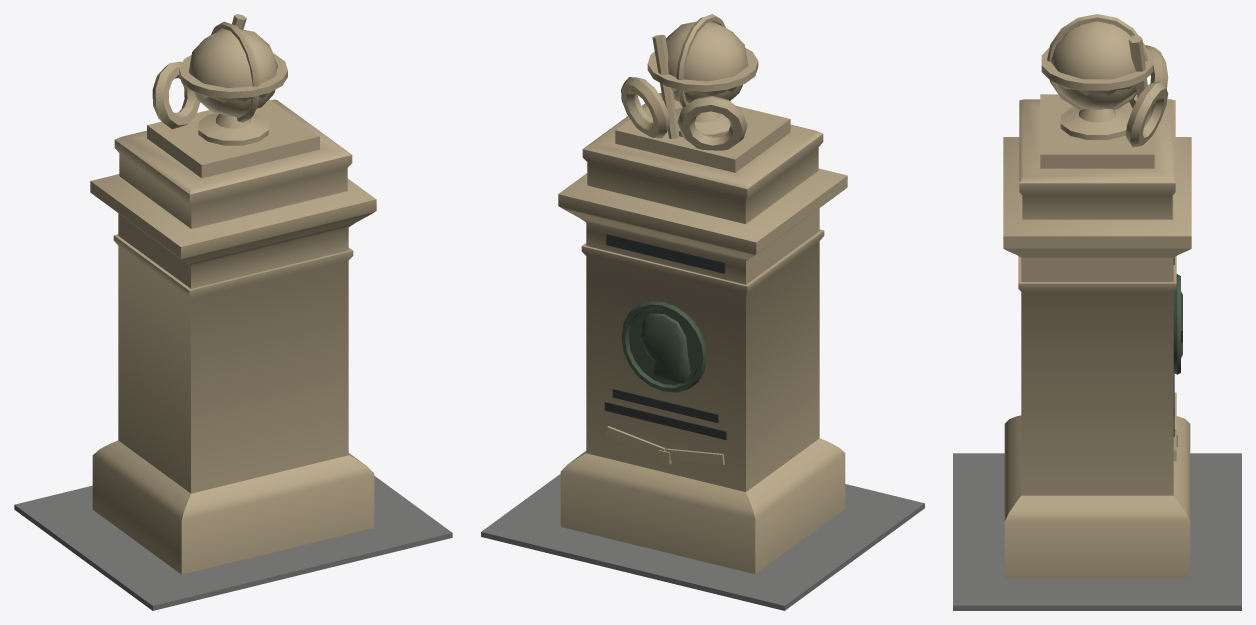
Rendered from mon_palitzsch.glb.
3 views of the same model, side by side, from view 1: azimuth 30°, elevation 25°; view 2: azimuth 150°, elevation 25°; view 3: azimuth 270°, elevation 25° (orthographic). The views are drawn at different scales.
Parts seen in each view (by area): view 1: mon_palitzsch; view 2: mon_palitzsch; view 3: mon_palitzsch.
Part boxes in pixels (x1,y1,x2,y2): mon_palitzsch: [14, 14, 452, 610]; mon_palitzsch: [481, 14, 924, 610]; mon_palitzsch: [953, 14, 1241, 610].
Bounding box in the file's own units: 1.9 × 3.02 × 1.52.
